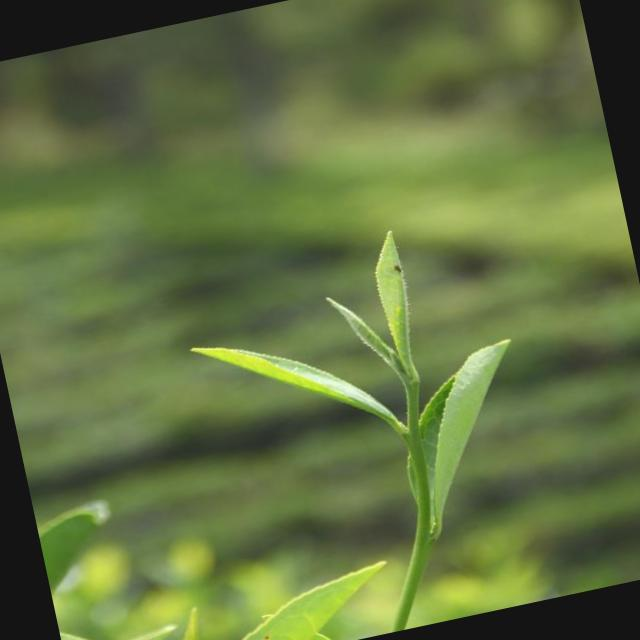Stem: (409, 385, 419, 403)
